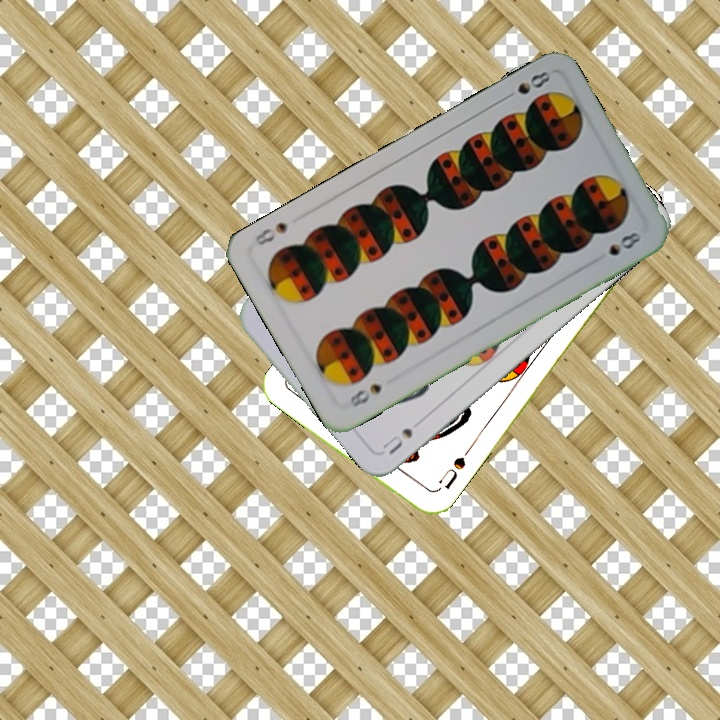S8: (498, 67, 554, 103), (340, 379, 385, 410)
SU: (434, 452, 469, 492), (378, 424, 416, 457)
